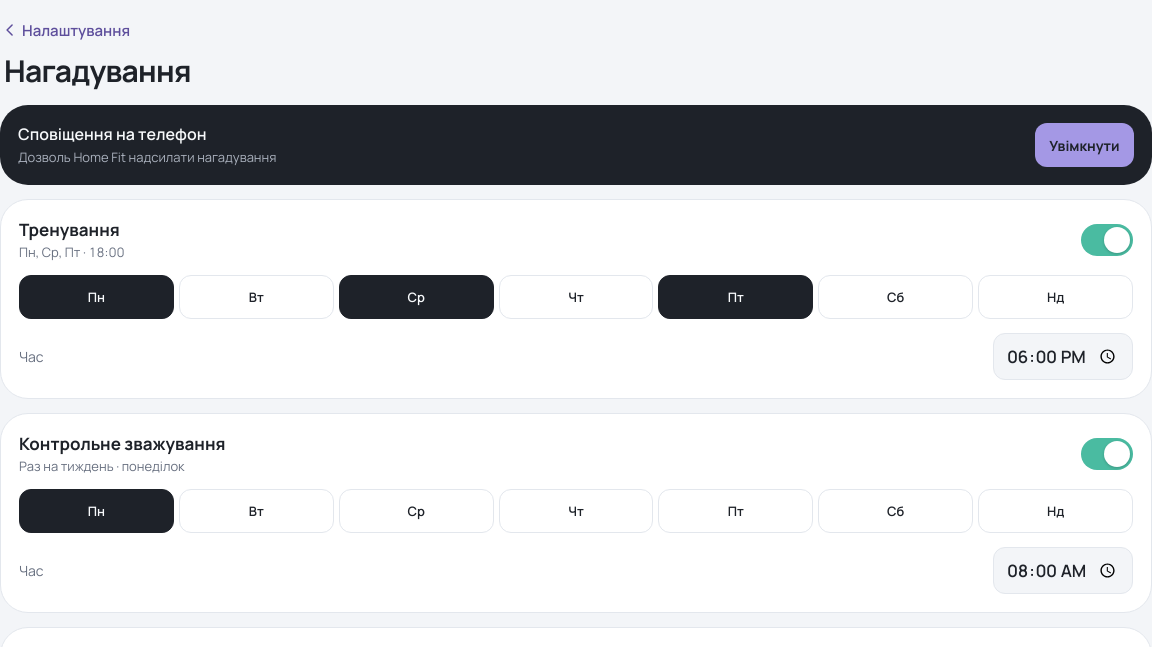
Test: SettingsScreen — the list (phone) › shares one push status between the sub-page and the list
This screenshot has width=1152, height=647.
Click the button "Увімкнути": click(1084, 145) [1035,123,1134,167]
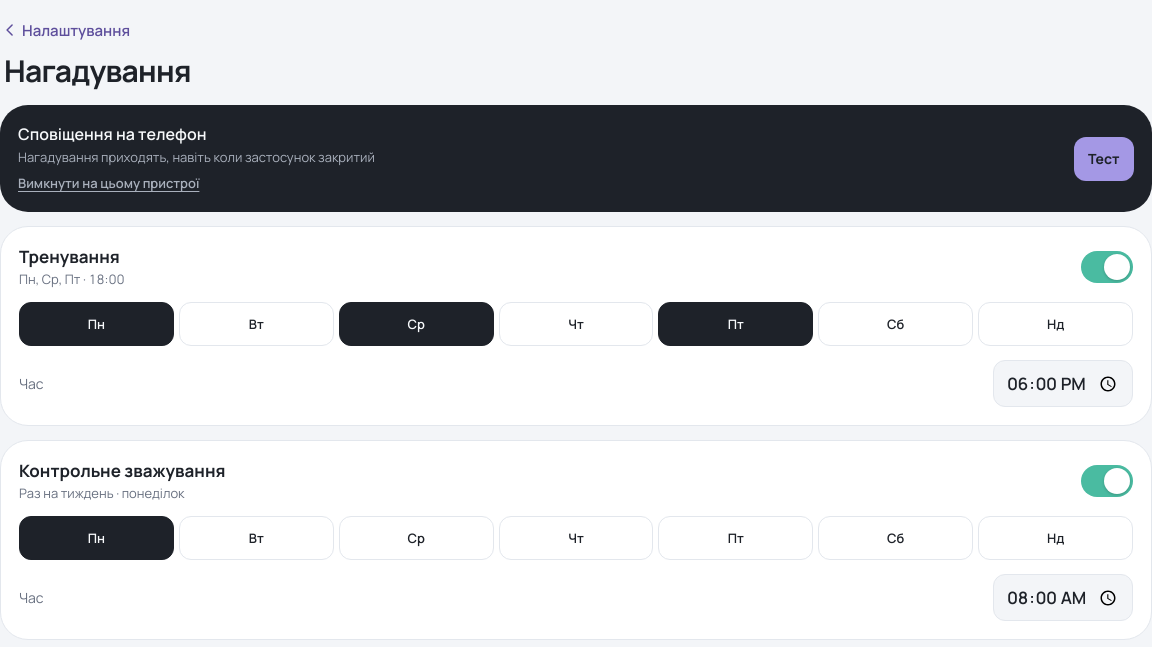
Click the link with aria-label "Назад: Налаштування": click(65, 30) [0,20,130,40]
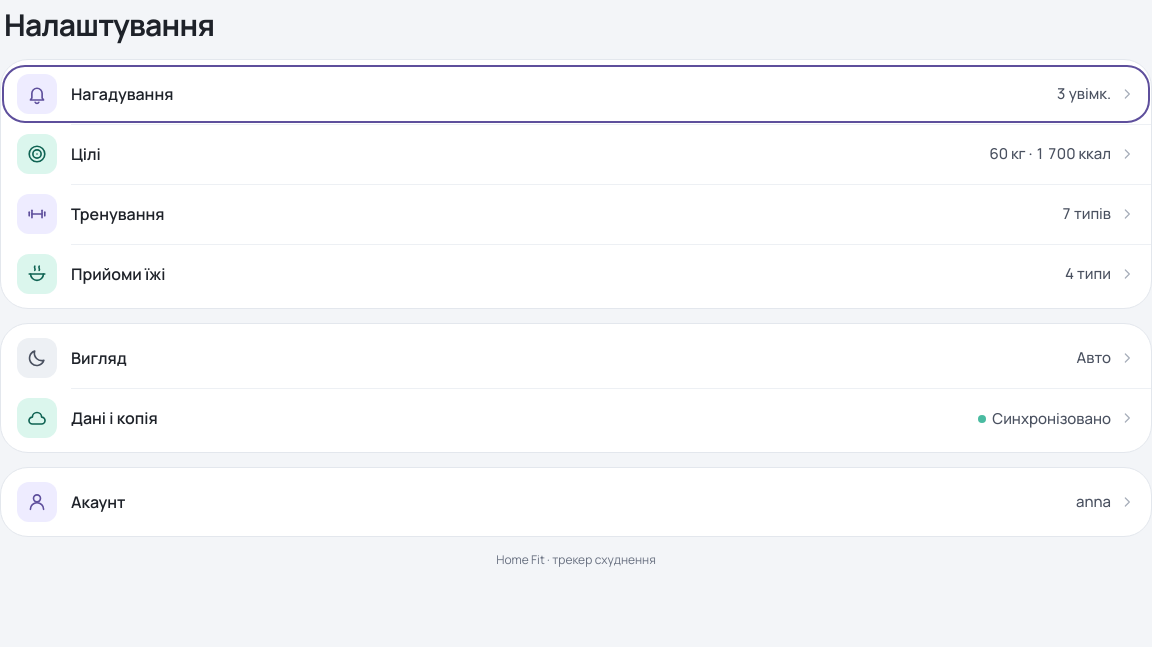
Now the link "Нагадування 3 увімк." is shown, box [1,64,1151,124]
